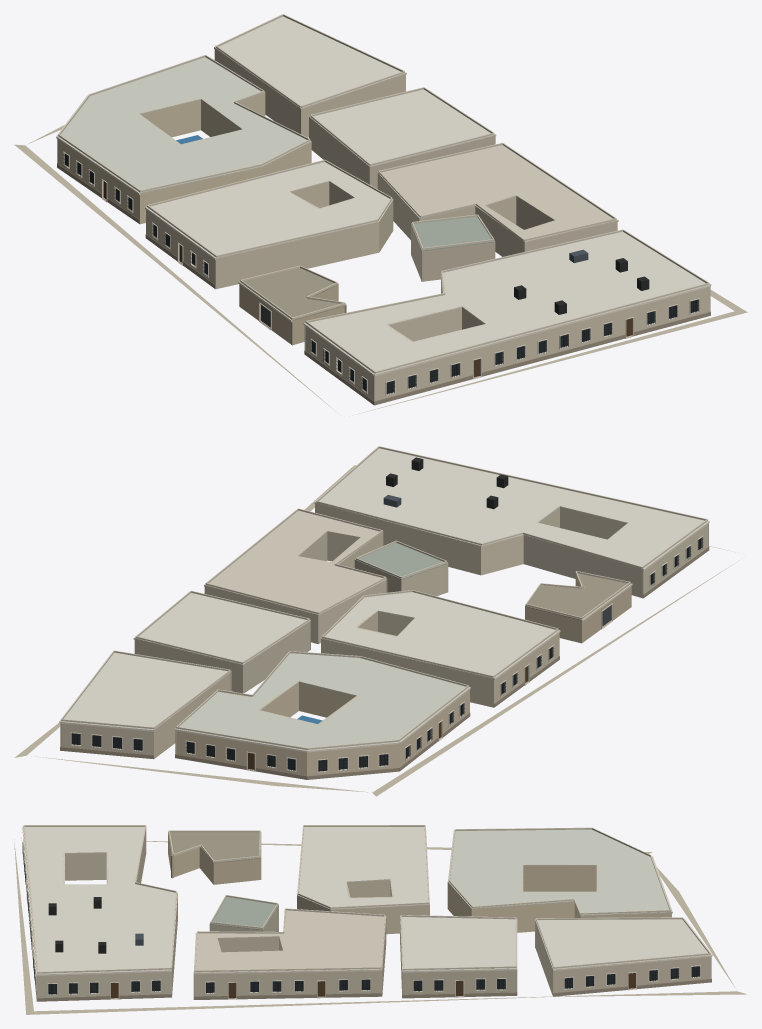
3 views of the same model, one above another, from view 1: azimuth 30°, elevation 25°; view 2: azimuth 150°, elevation 25°; view 3: azimuth 270°, elevation 25° (orthographic). The views are drawn at different scales.
Visible parts, largest first — view 1: edificio; view 2: edificio; view 3: edificio.
Boxes of the visible parts, x1,y1,x2,y2 form: edificio: (14,14,747,415); edificio: (14,446,739,796); edificio: (14,825,746,1014).
Bounding box in the file's own units: 54.88 × 5.2 × 96.19.
